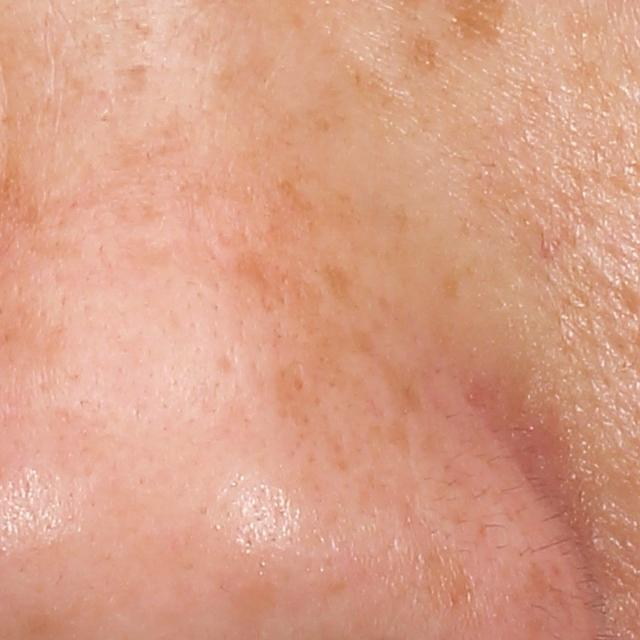atrophic_scar: (216, 348, 238, 376)
melasma: (224, 248, 429, 463), (398, 26, 444, 73), (321, 262, 359, 311)
